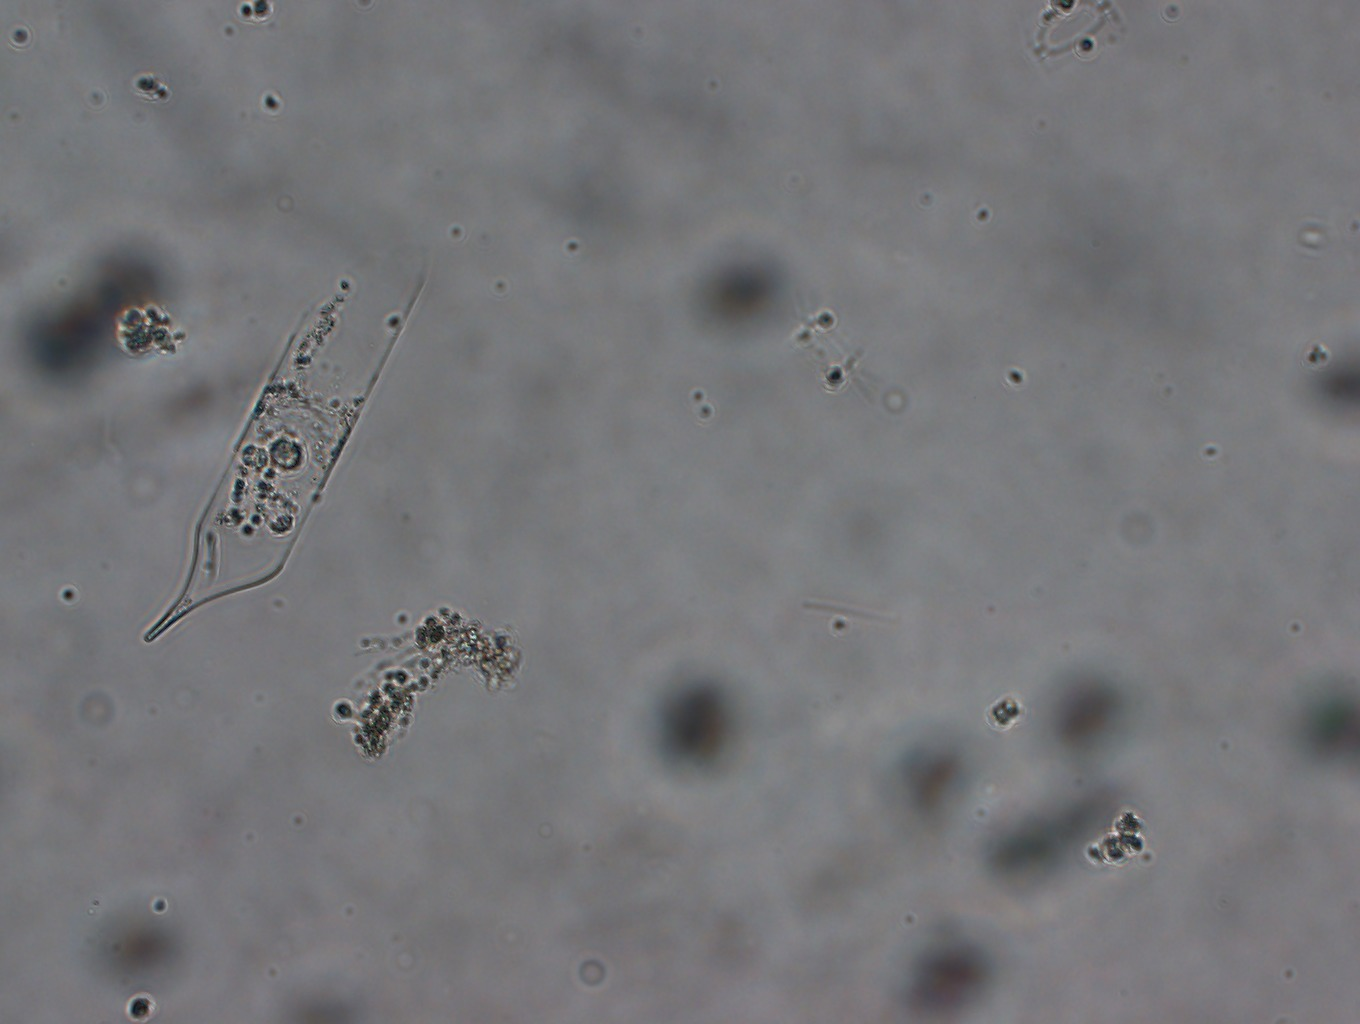biddulphia: (144, 247, 429, 644)
